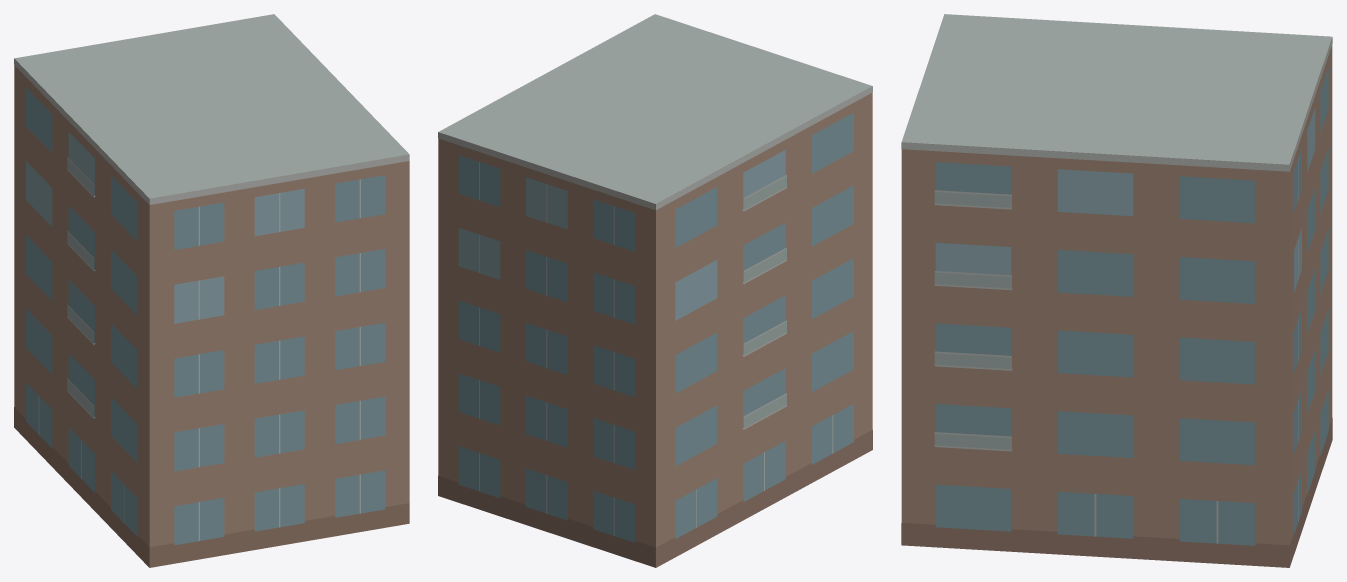
The model's file is survey-upis-33030643.glb.
The picture shows the model from 3 angles, left to right: view 1: azimuth 30°, elevation 25°; view 2: azimuth 150°, elevation 25°; view 3: azimuth 270°, elevation 25°; orthographic projection. The views are drawn at different scales.
Parts seen in each view (by area): view 1: survey-upis-33030643.tmp; view 2: survey-upis-33030643.tmp; view 3: survey-upis-33030643.tmp.
Boxes of the visible parts, x1,y1,x2,y2 form: survey-upis-33030643.tmp: (14, 14, 409, 567); survey-upis-33030643.tmp: (438, 14, 872, 567); survey-upis-33030643.tmp: (901, 14, 1332, 567).
Bounding box in the file's own units: 11.32 × 14.1 × 13.67.
